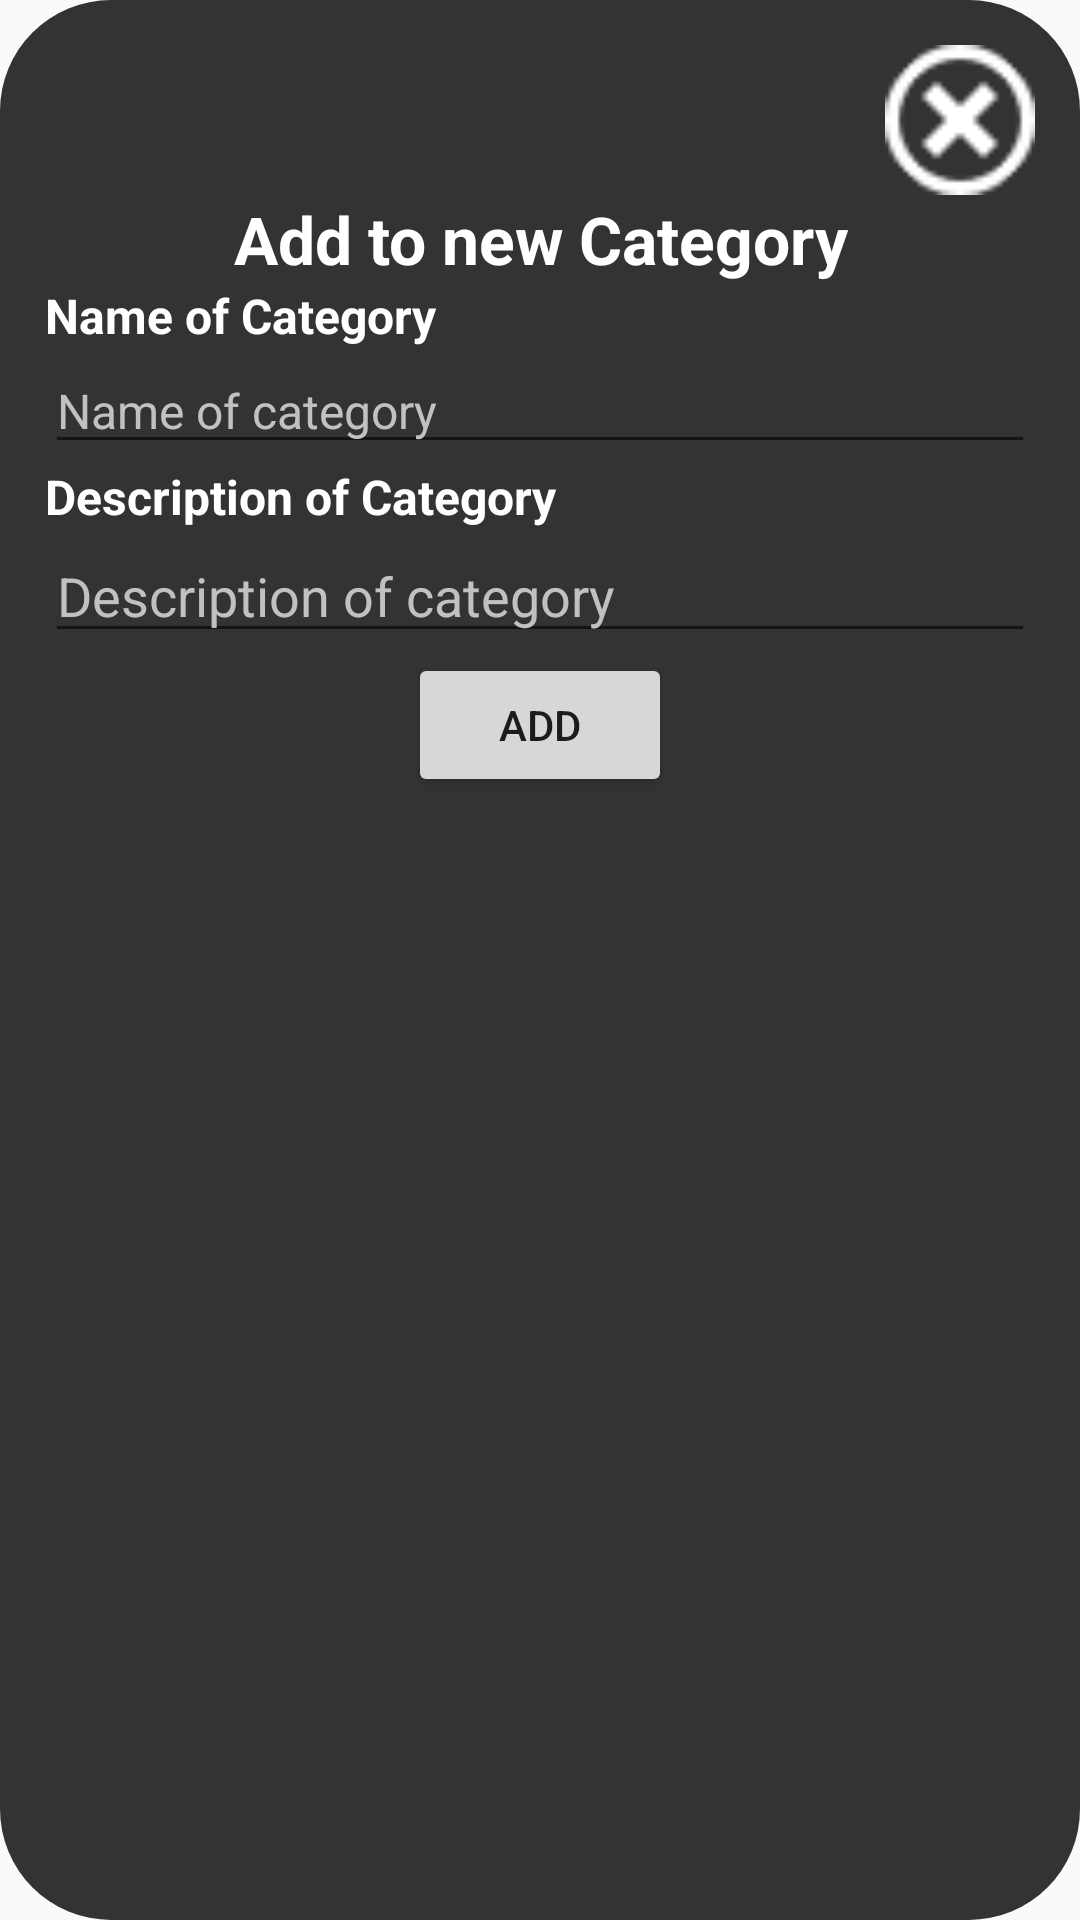

Screen size 1080w x 1920h. Icon name, then its box in pixels as (x1, y1, x2, y2):
close: (885, 45, 1035, 195)
